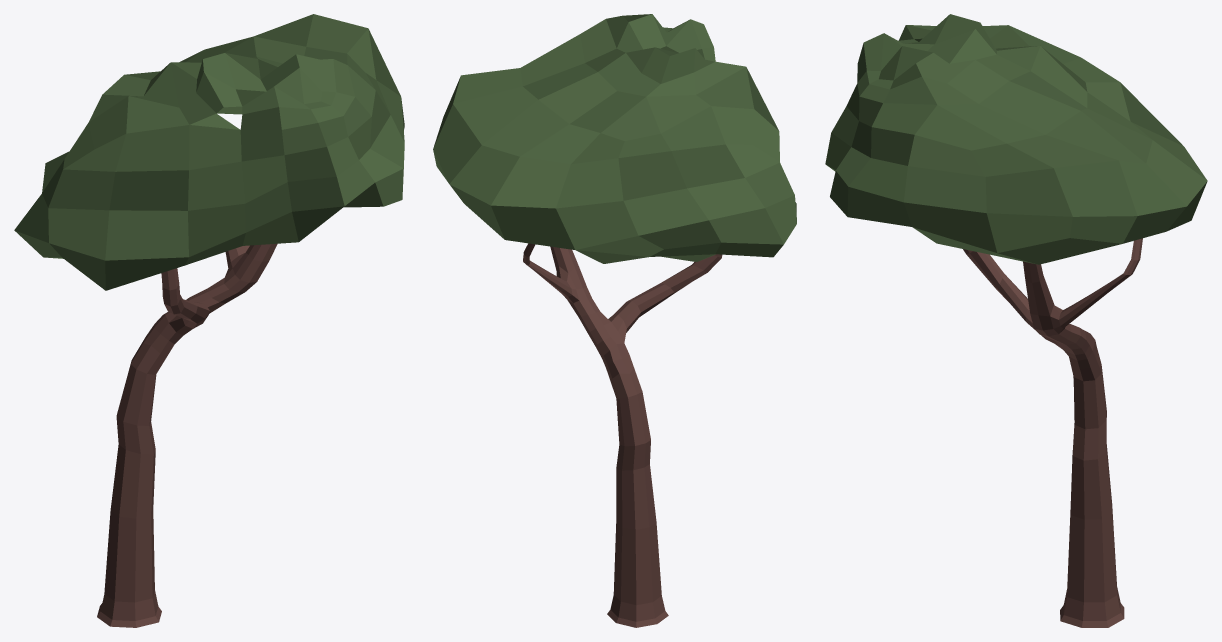
File: Orange_Harvested.glb
3 views of the same model, side by side, from view 1: azimuth 30°, elevation 25°; view 2: azimuth 150°, elevation 25°; view 3: azimuth 270°, elevation 25° (orthographic). The views are drawn at different scales.
Parts seen in each view (by area): view 1: Orange_Harvested; view 2: Orange_Harvested; view 3: Orange_Harvested.
Part boxes in pixels (x1=…): Orange_Harvested: x1=14, y1=14, x2=404, y2=627; Orange_Harvested: x1=433, y1=14, x2=796, y2=627; Orange_Harvested: x1=825, y1=14, x2=1207, y2=627.
Size of the model in its own units: 1.8 by 2.76 by 1.58.
